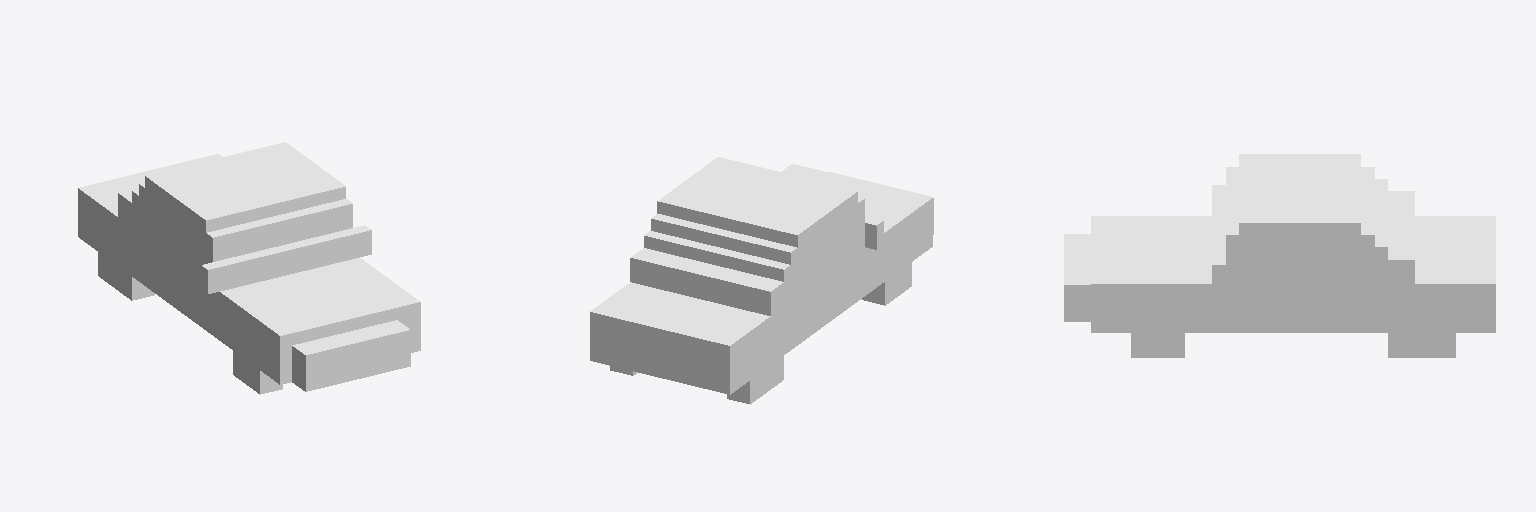
Rendered from car1.obj.
3 renders of one model, left to right at view 1: azimuth 30°, elevation 25°; view 2: azimuth 150°, elevation 25°; view 3: azimuth 270°, elevation 25°, orthographic.
Parts seen in each view (by area): view 1: car1; view 2: car1; view 3: car1.
Boxes of the visible parts, x1,y1,x2,y2 form: car1: [78, 142, 420, 394]; car1: [590, 157, 933, 404]; car1: [1064, 154, 1495, 357].
Bounding box in the file's own units: 1.4 × 1.1 × 3.2.